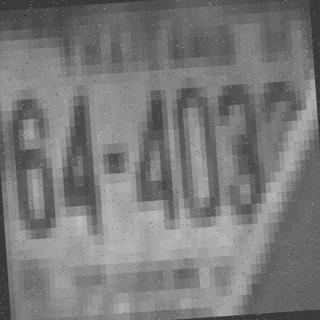N00: (165, 76, 221, 219)
N03: (212, 83, 262, 216)
N04: (52, 84, 102, 227), (130, 90, 174, 222)
N06: (5, 87, 61, 230)
